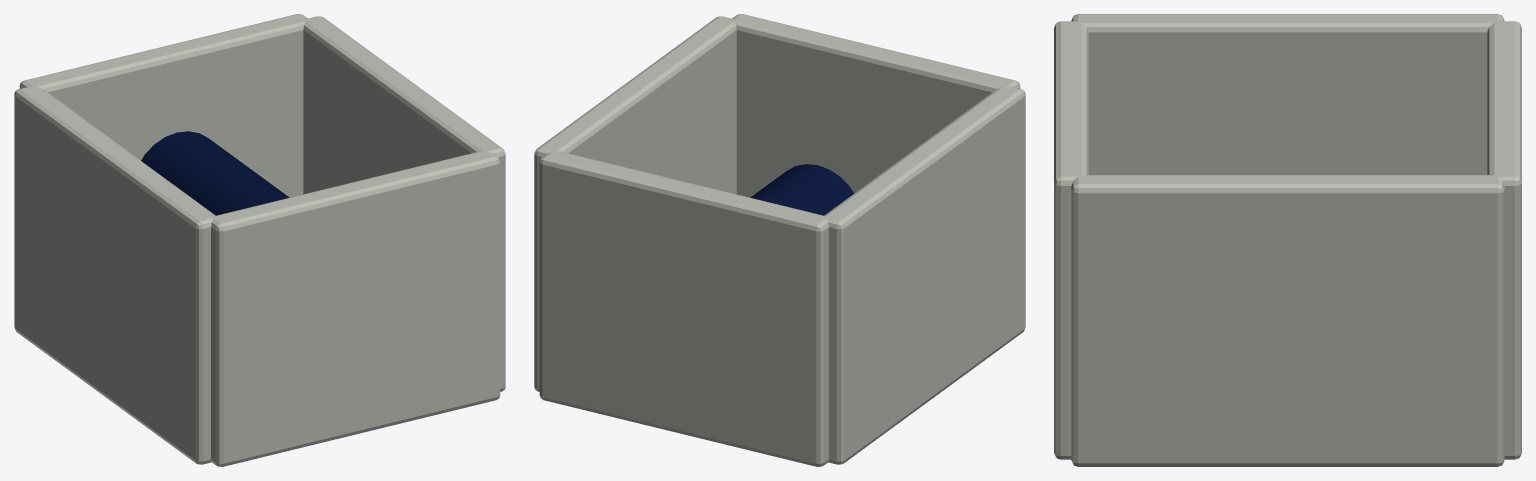
The model's file is Shelf_001.obj.
3 renders of one model, left to right at view 1: azimuth 30°, elevation 25°; view 2: azimuth 150°, elevation 25°; view 3: azimuth 270°, elevation 25°, orthographic. The views are drawn at different scales.
Visible parts, largest first — view 1: Shelf_001_Lado_Mesh.001, Shelf_001_Objeto_Mesh; view 2: Shelf_001_Lado_Mesh.001, Shelf_001_Objeto_Mesh; view 3: Shelf_001_Lado_Mesh.001.
Boxes of the visible parts, x1,y1,x2,y2 form: Shelf_001_Lado_Mesh.001: (14, 14, 505, 466); Shelf_001_Objeto_Mesh: (141, 131, 289, 215); Shelf_001_Lado_Mesh.001: (534, 14, 1025, 466); Shelf_001_Objeto_Mesh: (750, 164, 853, 215); Shelf_001_Lado_Mesh.001: (1054, 14, 1521, 466).
Size of the model in its own units: 0.24 by 0.18 by 0.27.
